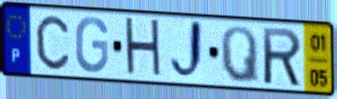C: (34, 13, 72, 72)
G: (73, 15, 110, 75)
H: (122, 15, 164, 82)
J: (168, 18, 206, 84)
Q: (218, 23, 262, 86)
R: (260, 25, 304, 89)
